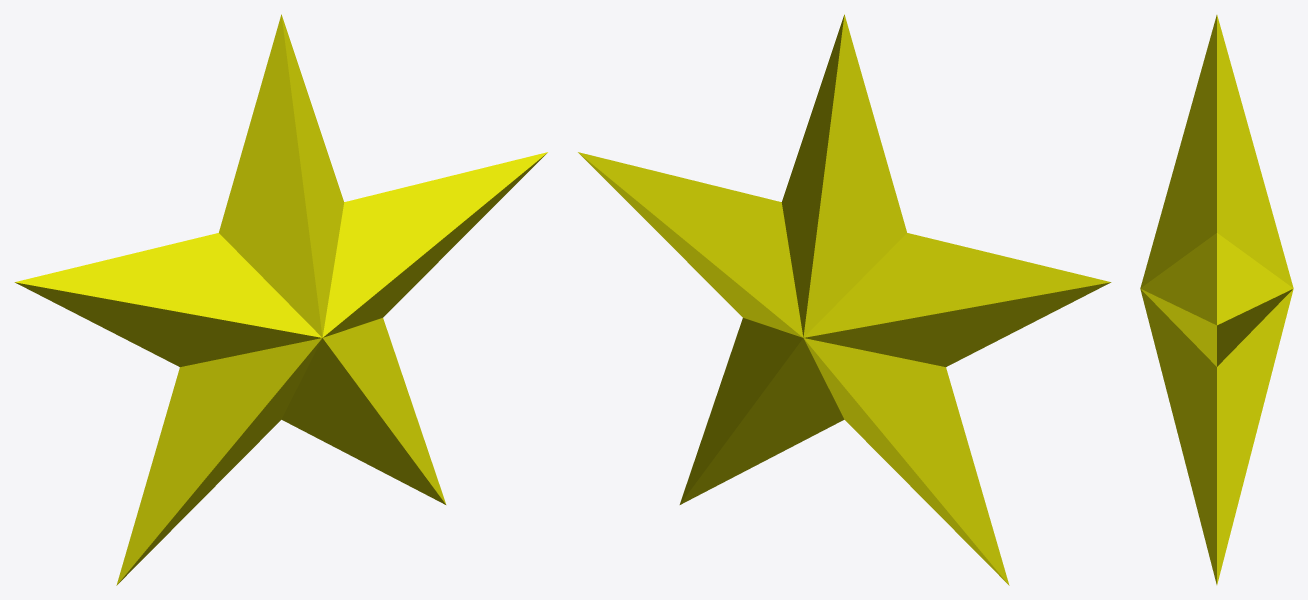
Rendered from star.fbx.
3 renders of one model, left to right at view 1: azimuth 30°, elevation 25°; view 2: azimuth 150°, elevation 25°; view 3: azimuth 270°, elevation 25°, orthographic. The views are drawn at different scales.
Visible parts, largest first — view 1: Circle; view 2: Circle; view 3: Circle.
Boxes of the visible parts, x1,y1,x2,y2 form: Circle: (14,14,547,585); Circle: (578,14,1111,585); Circle: (1140,15,1293,584).
Size of the model in its own units: 190 by 181 by 50.64.
